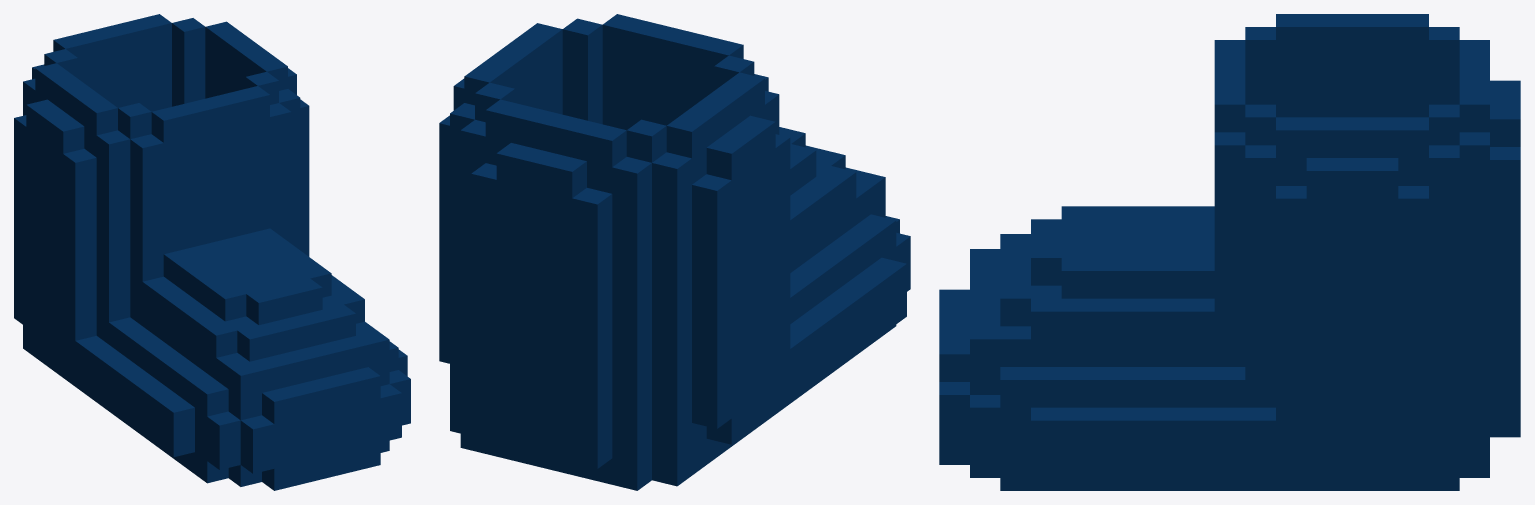
Rendered from Bota de gigante.obj.
3 views of the same model, side by side, from view 1: azimuth 30°, elevation 25°; view 2: azimuth 150°, elevation 25°; view 3: azimuth 270°, elevation 25° (orthographic). The views are drawn at different scales.
Bounding box in the file's own units: 1.1 × 1.3 × 1.9.
1 material, 1 textured.
